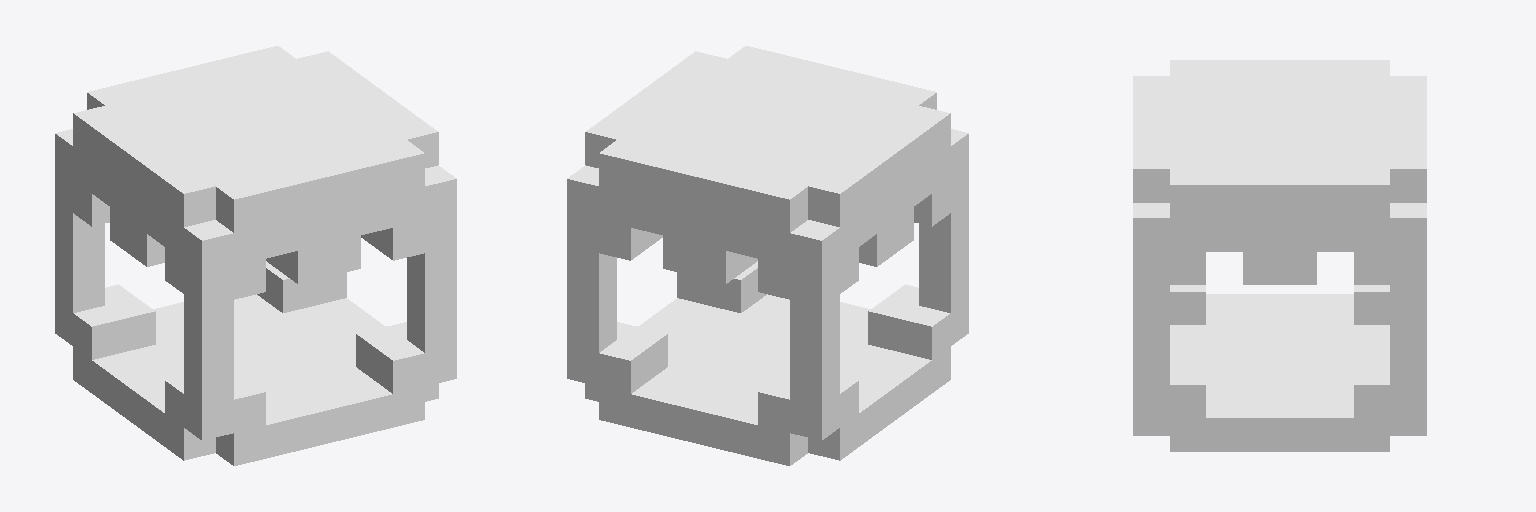
Rendered from Corridor_4_way.obj.
3 renders of one model, left to right at view 1: azimuth 30°, elevation 25°; view 2: azimuth 150°, elevation 25°; view 3: azimuth 270°, elevation 25°, orthographic.
Parts seen in each view (by area): view 1: object 1; view 2: object 1; view 3: object 1.
Part boxes in pixels (left/top/right/bottom): object 1: left=55, top=46, right=456, bottom=465; object 1: left=567, top=46, right=968, bottom=465; object 1: left=1133, top=60, right=1426, bottom=451.
Size of the model in its own units: 0.8 by 0.8 by 0.8.